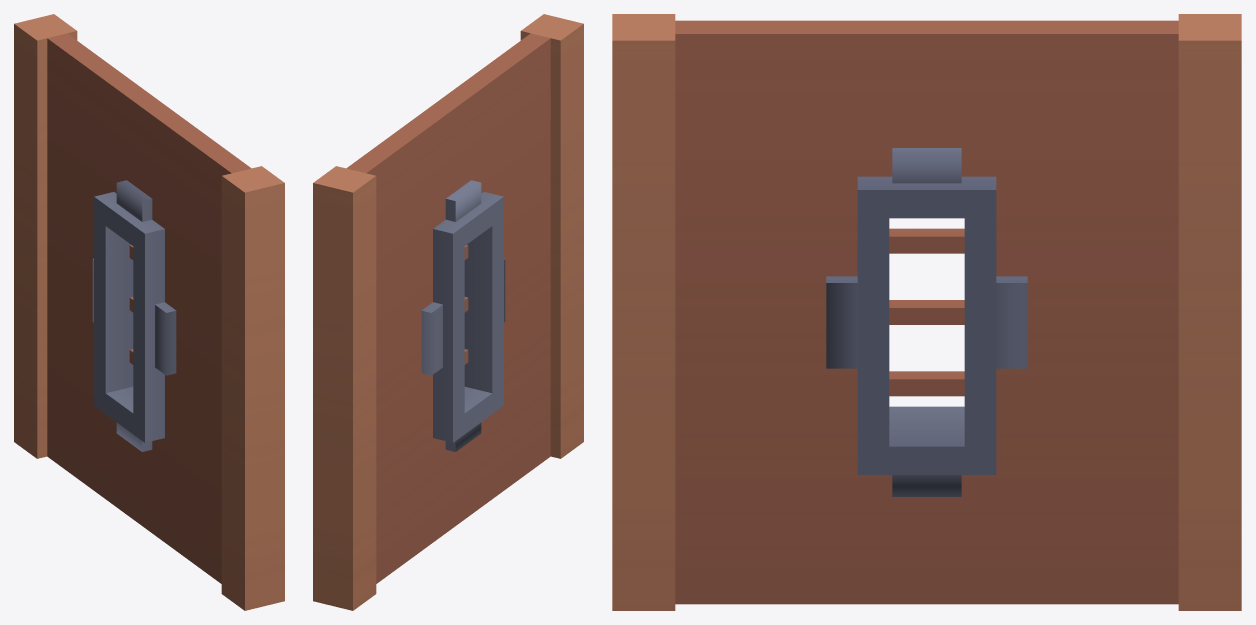
File: wall-wood-window-stone.fbx
The picture shows the model from 3 angles, left to right: view 1: azimuth 30°, elevation 25°; view 2: azimuth 150°, elevation 25°; view 3: azimuth 270°, elevation 25°; orthographic projection. The views are drawn at different scales.
Parts seen in each view (by area): view 1: wall-wood-window-stone; view 2: wall-wood-window-stone; view 3: wall-wood-window-stone.
Part boxes in pixels (x1,y1,x2,y2): wall-wood-window-stone: (14, 14, 284, 610); wall-wood-window-stone: (313, 14, 583, 610); wall-wood-window-stone: (612, 14, 1241, 610).
Bounding box in the file's own units: 15 × 100 × 100.
Materials: 1 (1 with a texture image).
